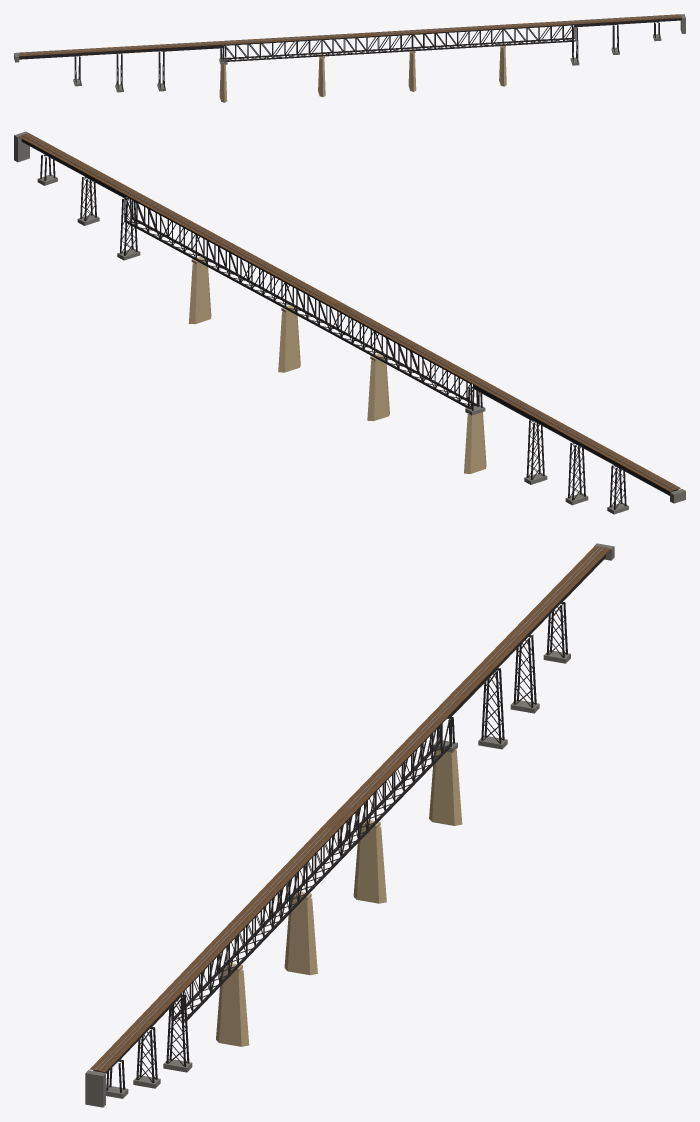
File: br_r22_clover_bar_railway_lod1.gltf
3 views of the same model, one above another, from view 1: azimuth 30°, elevation 25°; view 2: azimuth 150°, elevation 25°; view 3: azimuth 270°, elevation 25° (orthographic). The views are drawn at different scales.
Parts seen in each view (by area): view 1: br_r22_clover_bar_railway_lod1; view 2: br_r22_clover_bar_railway_lod1; view 3: br_r22_clover_bar_railway_lod1.
Boxes of the visible parts, x1,y1,x2,y2 form: br_r22_clover_bar_railway_lod1: (14, 14, 685, 102); br_r22_clover_bar_railway_lod1: (14, 131, 685, 514); br_r22_clover_bar_railway_lod1: (85, 543, 614, 1107).
Size of the model in its own units: 476 by 47.4 by 200.
